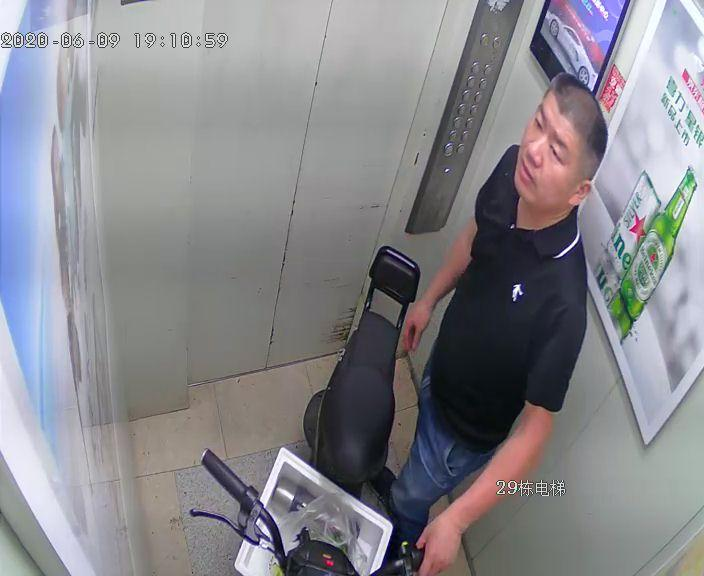Electric-bicycle: (283, 241, 419, 575)
